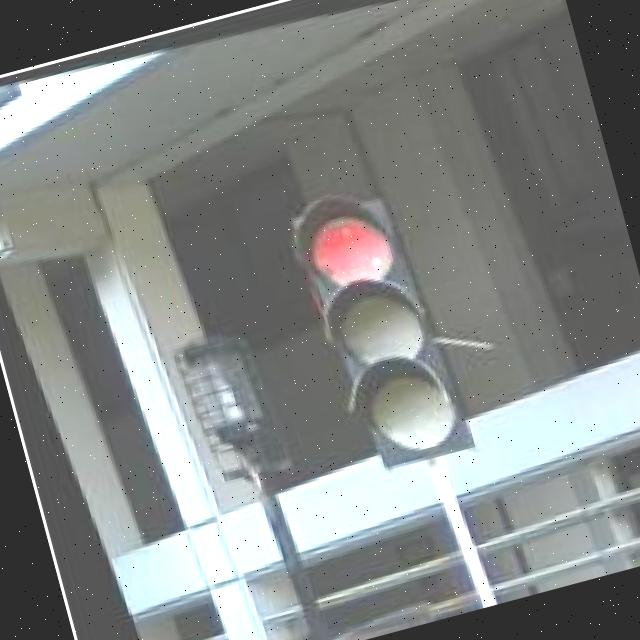red_light: (270, 167, 468, 478)
